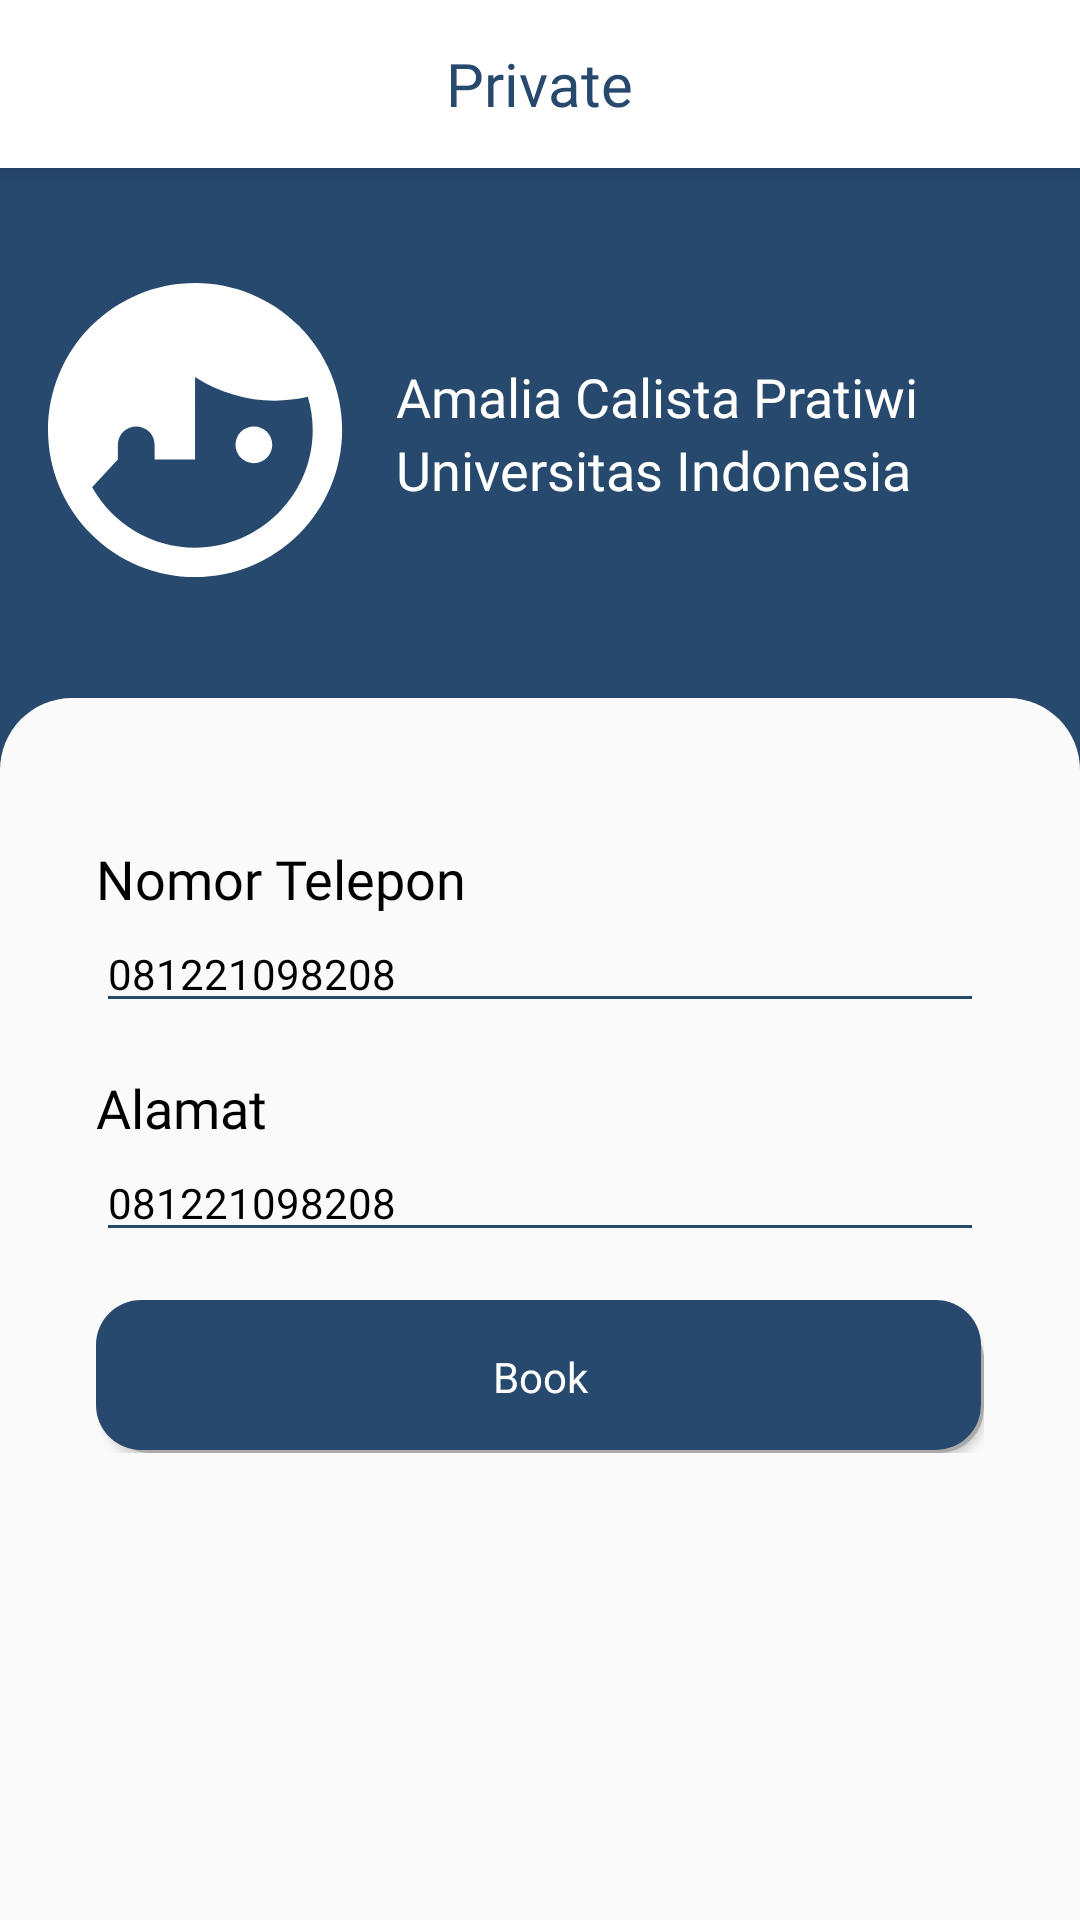

Named icons in this screenshot (1080px×1920px) and their centers, point (x, y):
profile: point (195, 430)
